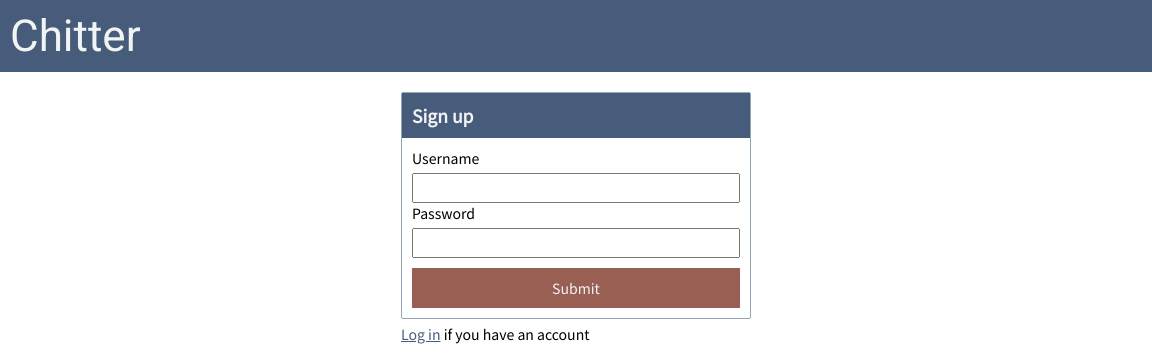
Test: MainContainer › renders login when you successfully sign up
This screenshot has width=1152, height=361.
Type "steve" into the field labelled "Username" at (576, 188), box x1=412 y1=173 x2=740 y2=203
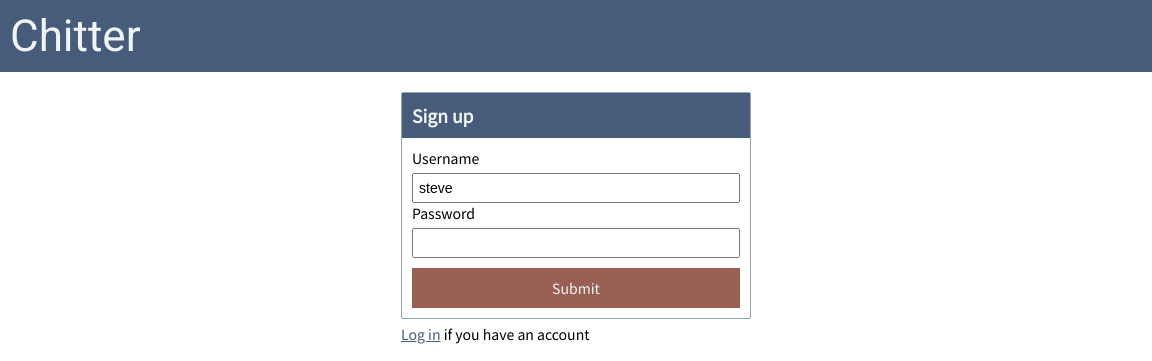
Type "1Abcdefgh2" into the password field labelled "Password" at (576, 243), box x1=412 y1=228 x2=740 y2=258
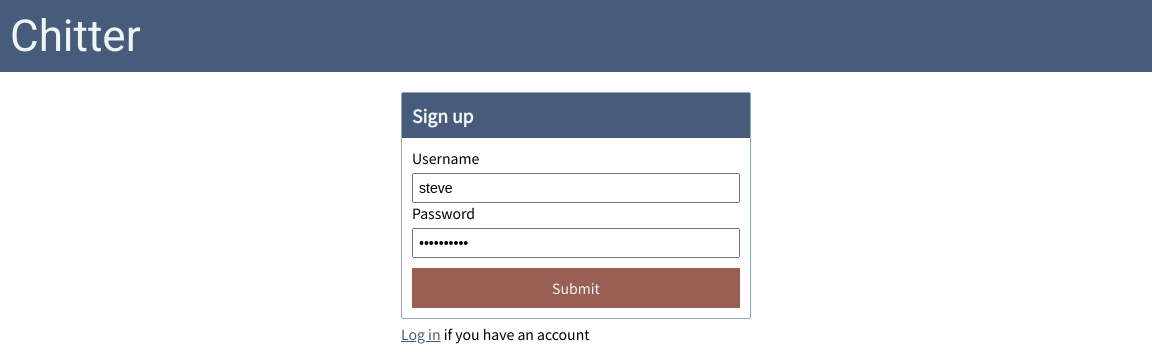
Click the button "Submit" at (576, 288), box x1=412 y1=268 x2=740 y2=308
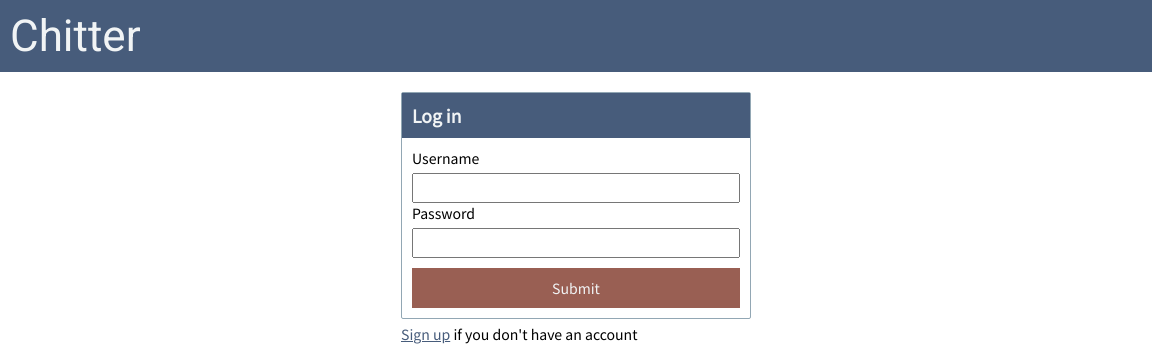
Check: the heading "Log in" is shown, box x1=402 y1=93 x2=750 y2=138
